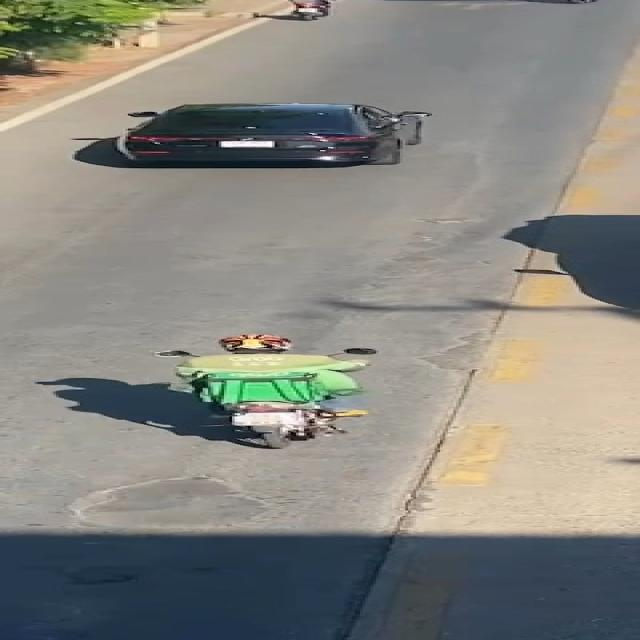car: (80, 93, 461, 180)
